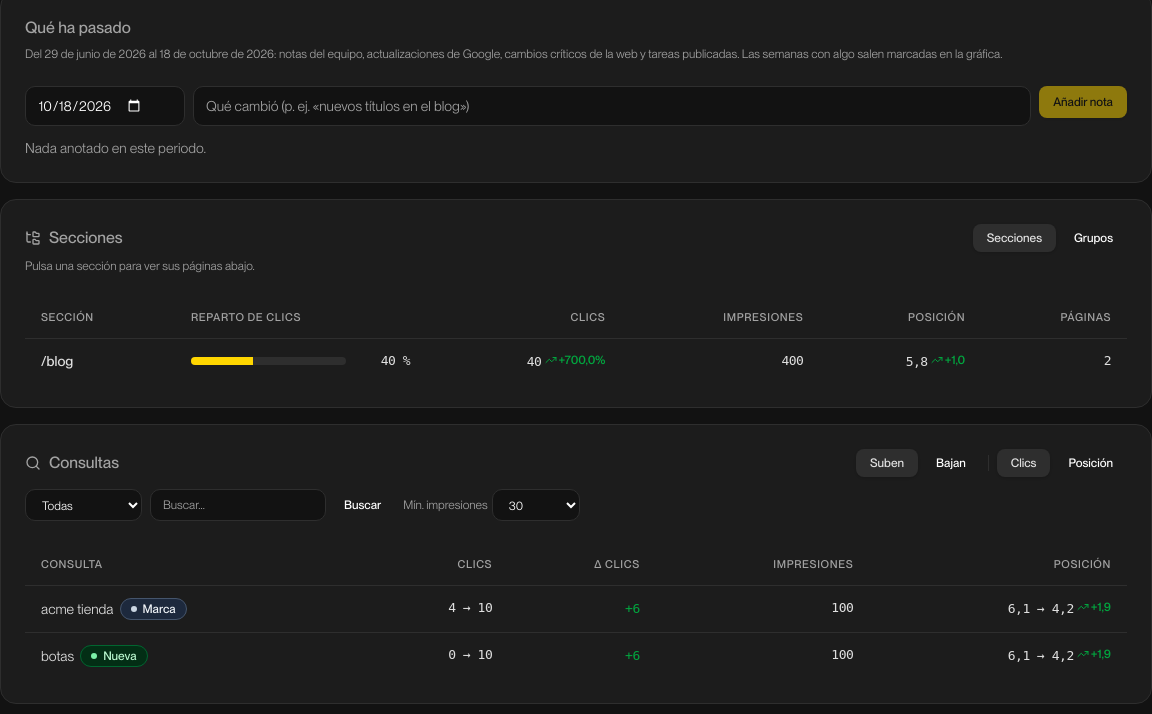
Scenario: SeoControlTab › filters pages by the clicked section
(page scrolled)
What coordinates should you click on to do the following:
click the button "/blog"
I would click on:
 (57, 361)
Its box is [41, 351, 73, 371].
(page scrolled)
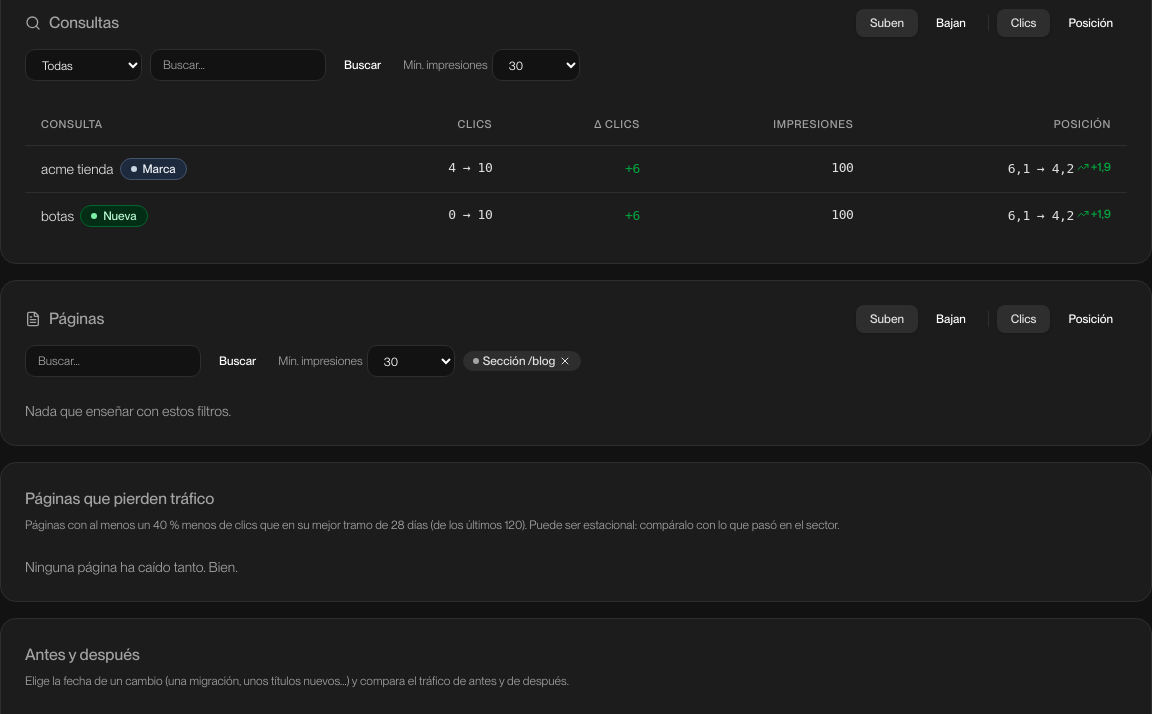
Expected: the text "Sección /blog" is shown, [463, 351, 581, 371]
